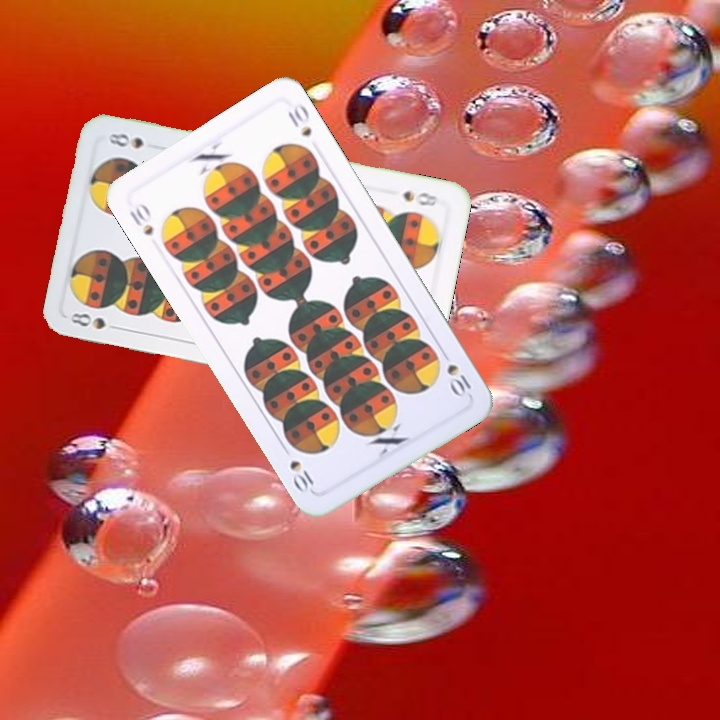S10: (443, 359, 474, 401), (125, 198, 156, 239)
S8: (66, 308, 125, 333), (399, 187, 443, 209)
